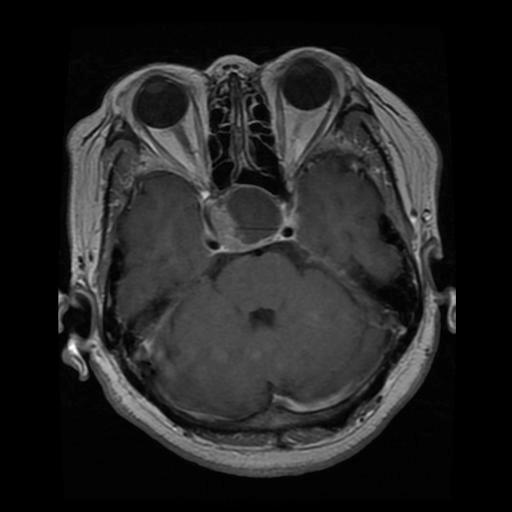Tumour-Pituitary: (182, 185, 311, 275)
